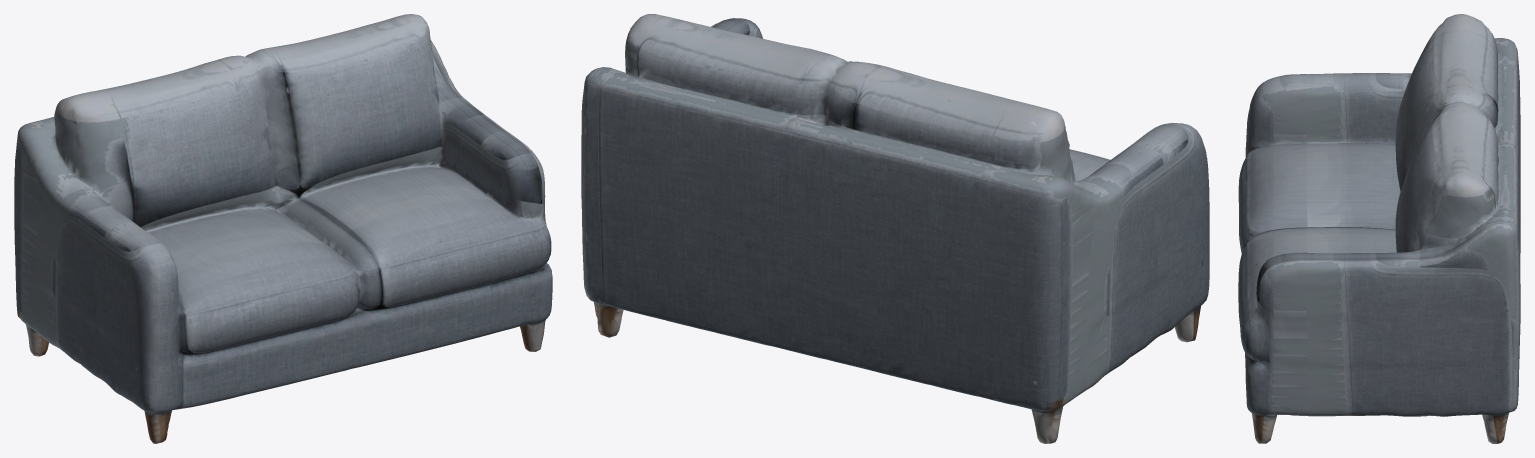
Rendered from sofa.glb.
The picture shows the model from 3 angles, left to right: view 1: azimuth 30°, elevation 25°; view 2: azimuth 150°, elevation 25°; view 3: azimuth 270°, elevation 25°; orthographic projection. The views are drawn at different scales.
Parts seen in each view (by area): view 1: geometry_0; view 2: geometry_0; view 3: geometry_0.
Boxes of the visible parts, x1=… form: geometry_0: x1=14, y1=14, x2=552, y2=443; geometry_0: x1=581, y1=14, x2=1209, y2=443; geometry_0: x1=1238, y1=14, x2=1520, y2=443.
Size of the model in its own units: 1.96 by 1.21 by 1.2.
1 material, 1 textured.
